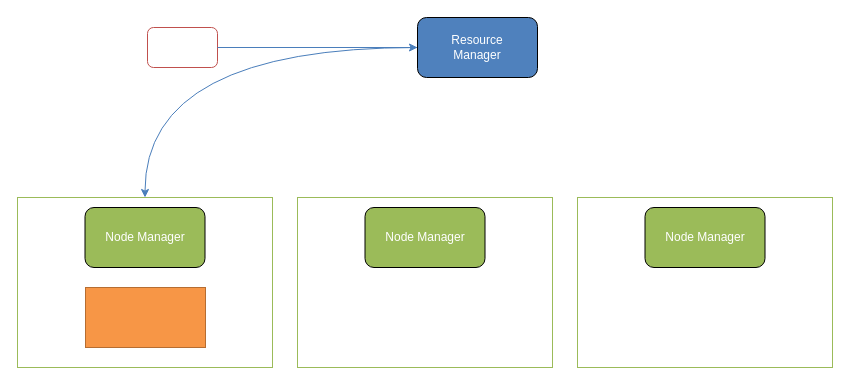
Image size: 850x385. Some labels were removed from this diagram. The shapes that lost their labels are listed below. From the top down, each one's box as (x1, y1, x2, y2) in pixels, then its label:
(146, 26, 218, 68): Client
(84, 286, 206, 348): Application Master
